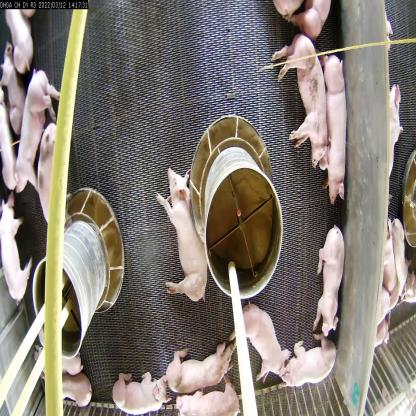Pig: (152, 158, 213, 306), (279, 32, 328, 182), (15, 62, 54, 186), (318, 48, 349, 204), (238, 301, 290, 385), (314, 218, 345, 337), (163, 340, 233, 384), (1, 194, 29, 302), (290, 330, 336, 391), (109, 370, 167, 411)
